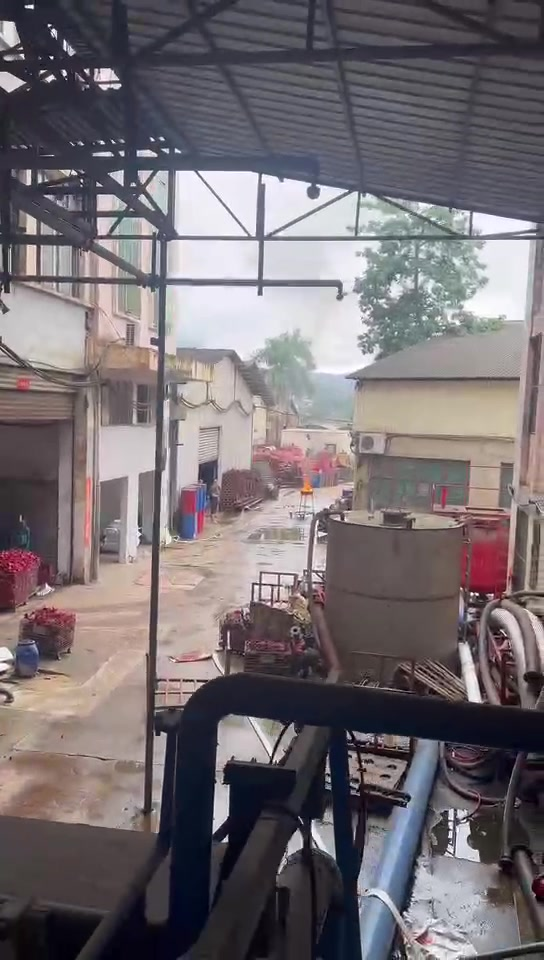fire: (300, 473, 313, 492)
